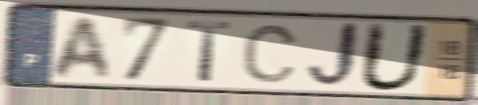7: (120, 13, 175, 84)
A: (49, 14, 115, 80)
C: (240, 22, 301, 85)
J: (303, 19, 363, 93)
T: (185, 19, 235, 84)
U: (355, 20, 434, 95)
